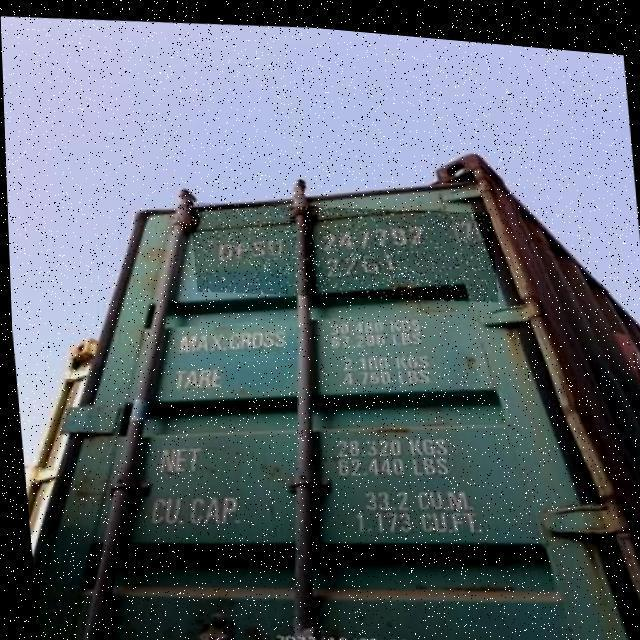container_number_h: (188, 183, 497, 309)
